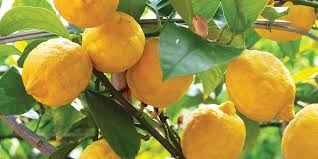Lemon: (218, 46, 301, 135), (14, 31, 96, 101), (80, 16, 152, 78), (179, 104, 251, 159), (127, 45, 187, 105), (276, 106, 318, 154)
